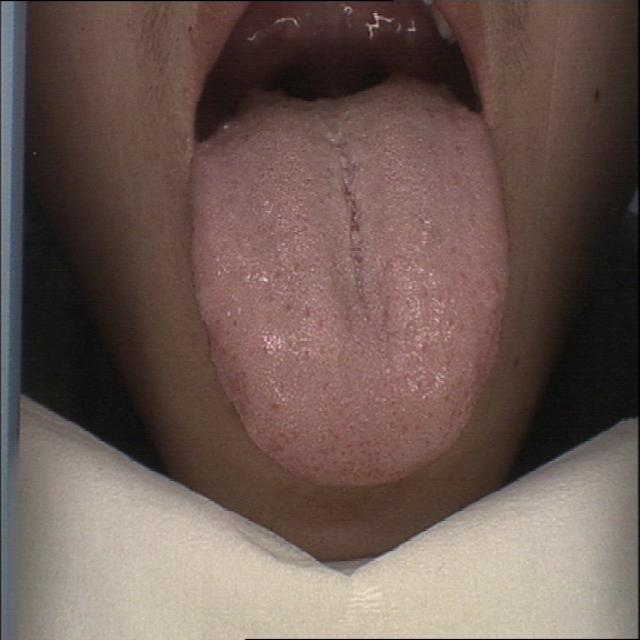tongue: (182, 84, 512, 492)
